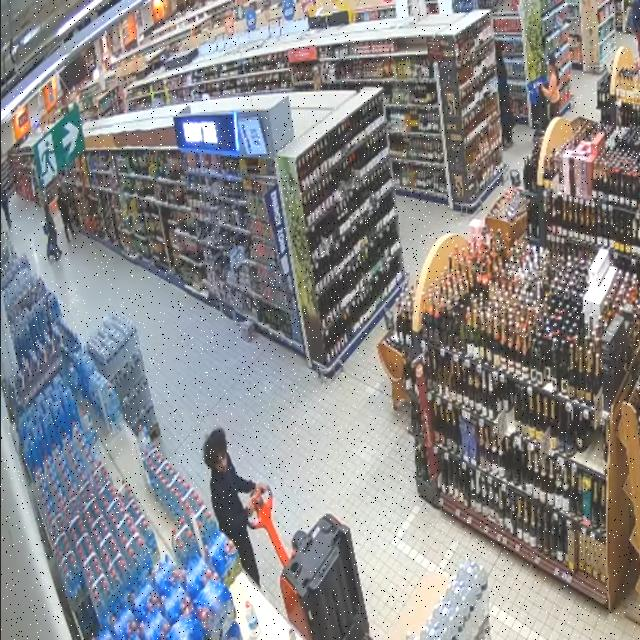hands: (246, 500, 255, 517), (256, 483, 269, 494)
person: (203, 428, 266, 586), (497, 42, 513, 148), (541, 53, 560, 121), (45, 204, 62, 260), (58, 194, 75, 242)
